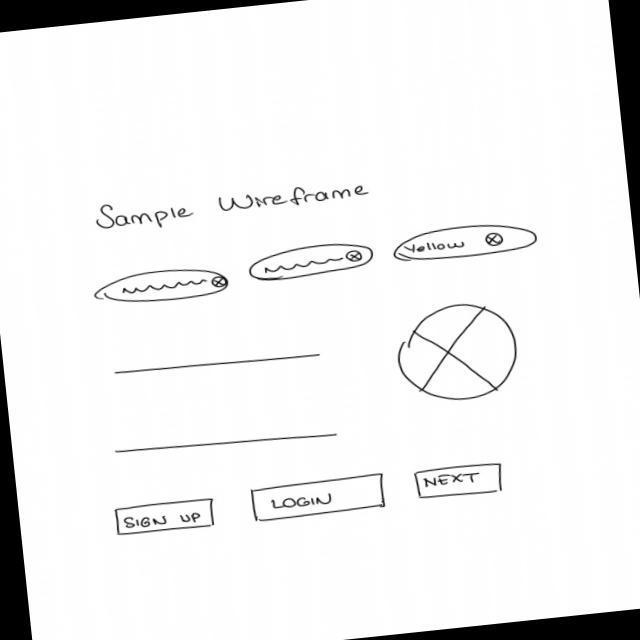button: (250, 472, 389, 524), (113, 497, 219, 539), (414, 462, 506, 501)
image: (390, 298, 524, 408)
label: (93, 176, 372, 237)
